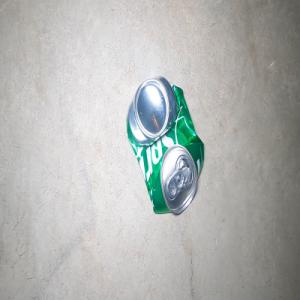SodaCan: (126, 75, 204, 214)
